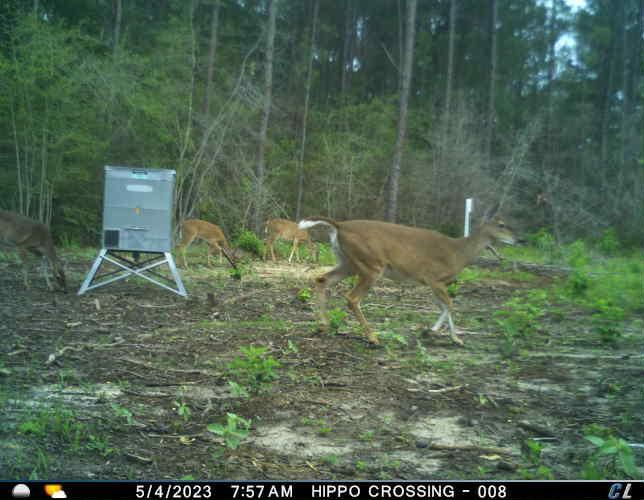Deer: (299, 201, 526, 349), (1, 206, 71, 298), (177, 215, 243, 268), (264, 214, 321, 267)
